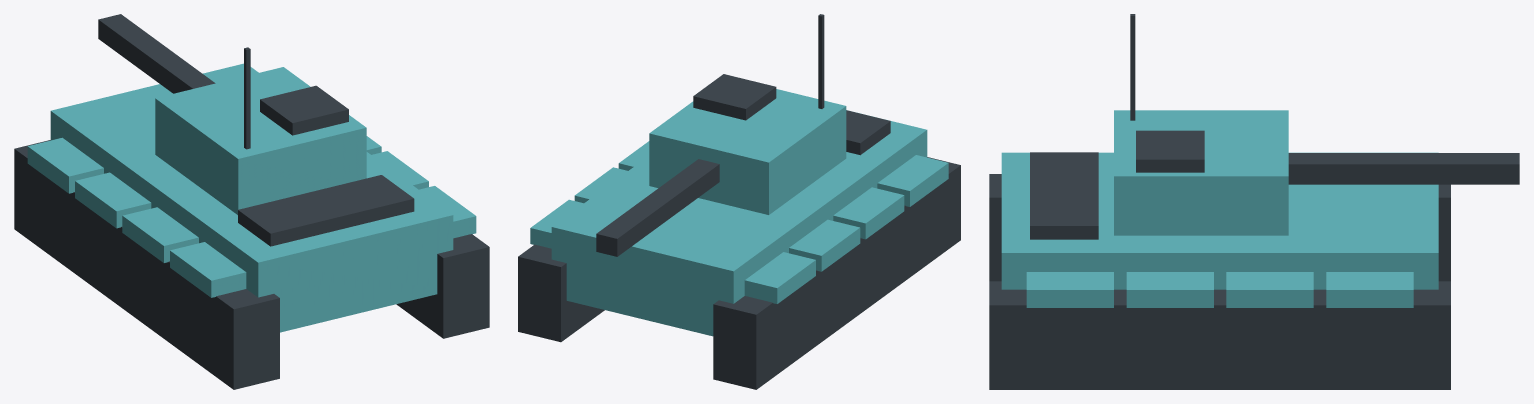
File: Bulwark_LOD0.fbx
The picture shows the model from 3 angles, left to right: view 1: azimuth 30°, elevation 25°; view 2: azimuth 150°, elevation 25°; view 3: azimuth 270°, elevation 25°; orthographic projection. The views are drawn at different scales.
Parts seen in each view (by area): view 1: Hull, Track, Turret, EngineDeck, Track.001, Barrel, Hatch, TrackGuard, TrackGuard.002, TrackGuard.003, TrackGuard.001, TrackGuard.004 (+2 smaller); view 2: Hull, Track, Turret, Track.001, Barrel, Hatch, TrackGuard.003, TrackGuard, TrackGuard.001, TrackGuard.002, EngineDeck, TrackGuard.007 (+3 smaller); view 3: Track.001, Hull, Turret, Barrel, EngineDeck, TrackGuard.004, TrackGuard.005, TrackGuard.006, TrackGuard.007, Hatch, Track, Antenna.
Part boxes in pixels (x1,y1,x2,y2): Hull: [50, 63, 453, 332]; Track: [14, 140, 279, 389]; Turret: [155, 67, 366, 214]; EngineDeck: [238, 175, 414, 246]; Track.001: [396, 234, 489, 338]; Barrel: [98, 14, 215, 93]; Hatch: [260, 85, 348, 135]; TrackGuard: [170, 242, 246, 297]; TrackGuard.002: [75, 172, 151, 228]; TrackGuard.003: [27, 137, 103, 193]; TrackGuard.001: [122, 207, 198, 262]; TrackGuard.004: [419, 186, 476, 238]; Hull: [551, 110, 927, 336]; Track: [713, 157, 960, 389]; Turret: [649, 89, 846, 214]; Track.001: [518, 244, 604, 342]; Barrel: [596, 159, 719, 256]; Hatch: [693, 74, 776, 120]; TrackGuard.003: [744, 252, 815, 303]; TrackGuard: [877, 155, 948, 206]; TrackGuard.001: [833, 187, 904, 239]; TrackGuard.002: [789, 219, 860, 271]; EngineDeck: [846, 110, 890, 155]; TrackGuard.007: [530, 199, 583, 248]; Track.001: [989, 281, 1450, 389]; Hull: [1001, 152, 1438, 289]; Turret: [1114, 110, 1288, 235]; Barrel: [1288, 153, 1519, 184]; EngineDeck: [1030, 152, 1098, 239]; TrackGuard.004: [1026, 272, 1113, 307]; TrackGuard.005: [1126, 272, 1213, 307]; TrackGuard.006: [1226, 272, 1313, 307]; TrackGuard.007: [1326, 272, 1413, 307]; Hatch: [1136, 130, 1204, 172]; Track: [989, 174, 1450, 281]; Antenna: [1130, 14, 1135, 120].
Bounding box in the file's own units: 258 × 252 × 425.
